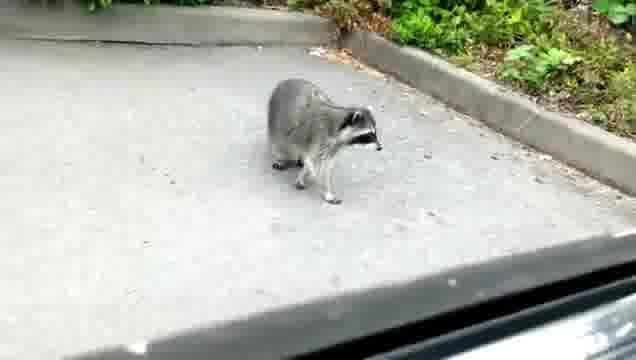raccoon: (266, 76, 385, 208)
